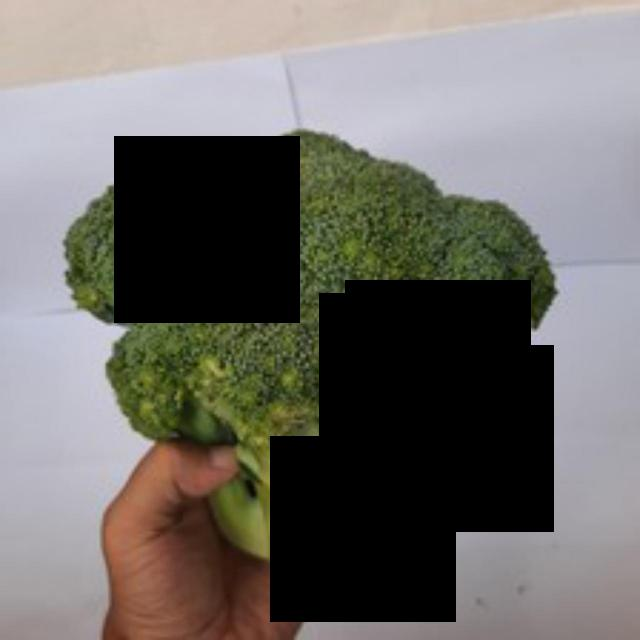broccoli: (70, 126, 559, 589)
